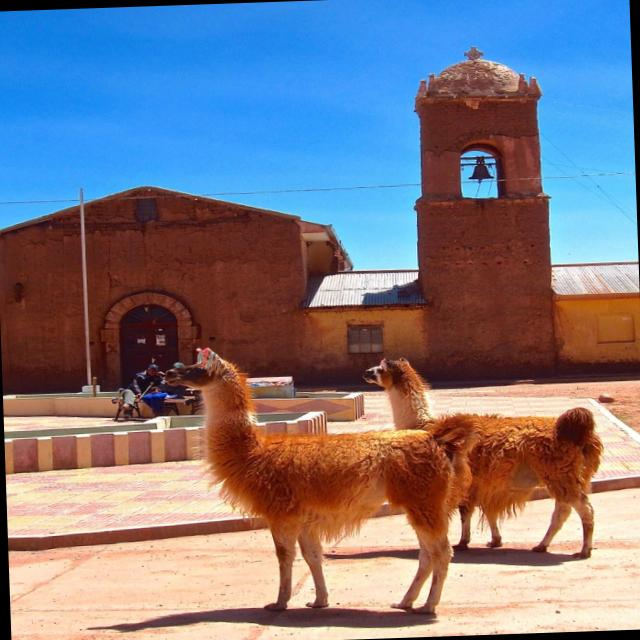alpaca: (166, 340, 452, 627), (360, 348, 604, 568)
